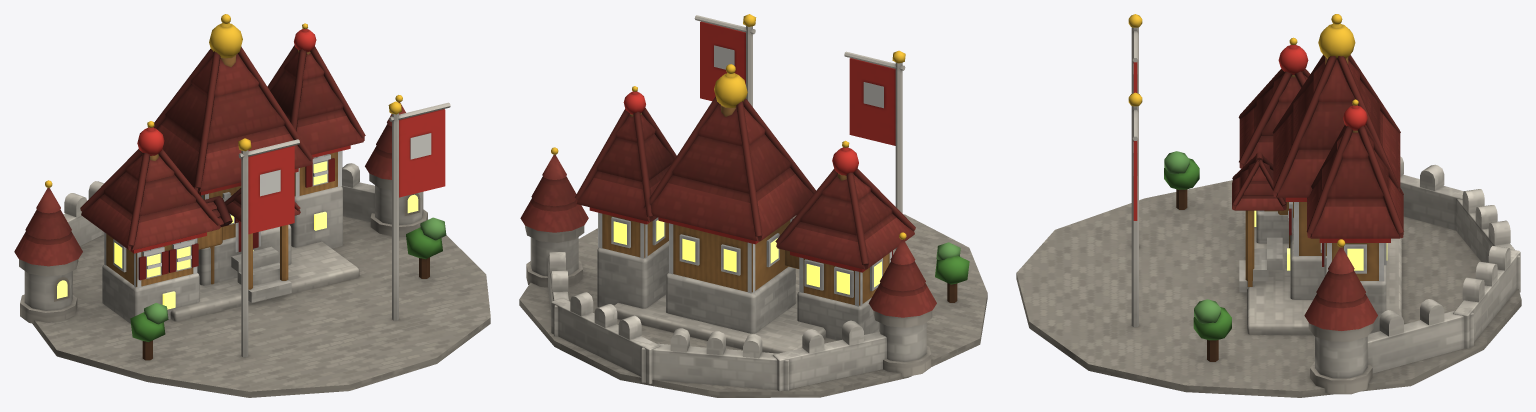
File: residence_dl3_red.glb
3 views of the same model, side by side, from view 1: azimuth 30°, elevation 25°; view 2: azimuth 150°, elevation 25°; view 3: azimuth 270°, elevation 25° (orthographic). The views are drawn at different scales.
Visible parts, largest first — view 1: residence_dl3_red; view 2: residence_dl3_red; view 3: residence_dl3_red.
Part boxes in pixels (left/top/right/bottom): residence_dl3_red: left=14, top=14, right=490, bottom=397; residence_dl3_red: left=519, top=14, right=987, bottom=397; residence_dl3_red: left=1016, top=14, right=1521, bottom=397.
Bounding box in the file's own units: 1.66 × 0.9928 × 1.63.
2 materials, 1 textured.
